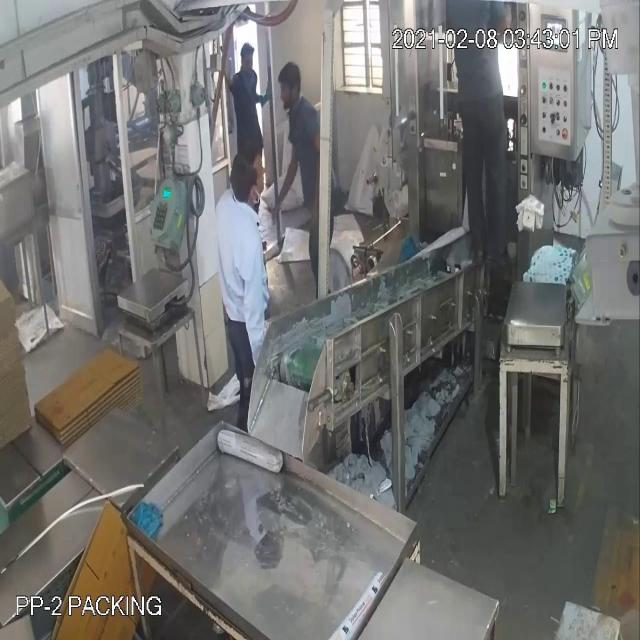No_Gloves: (34, 99, 285, 307)
